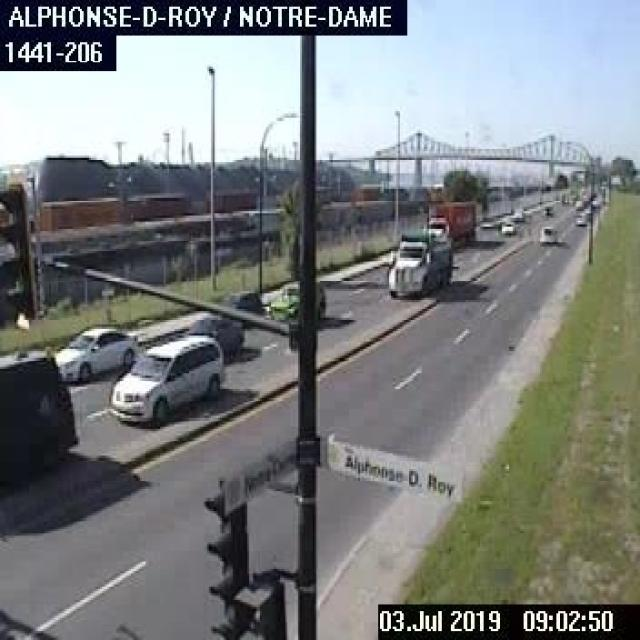vehicle: (0, 346, 84, 496), (109, 326, 224, 428), (45, 320, 139, 384), (386, 228, 453, 300), (178, 309, 246, 365), (423, 195, 479, 249), (266, 279, 327, 322), (219, 289, 262, 321), (496, 216, 515, 234), (536, 222, 554, 240), (510, 204, 526, 221), (571, 211, 586, 225), (542, 202, 552, 214)
